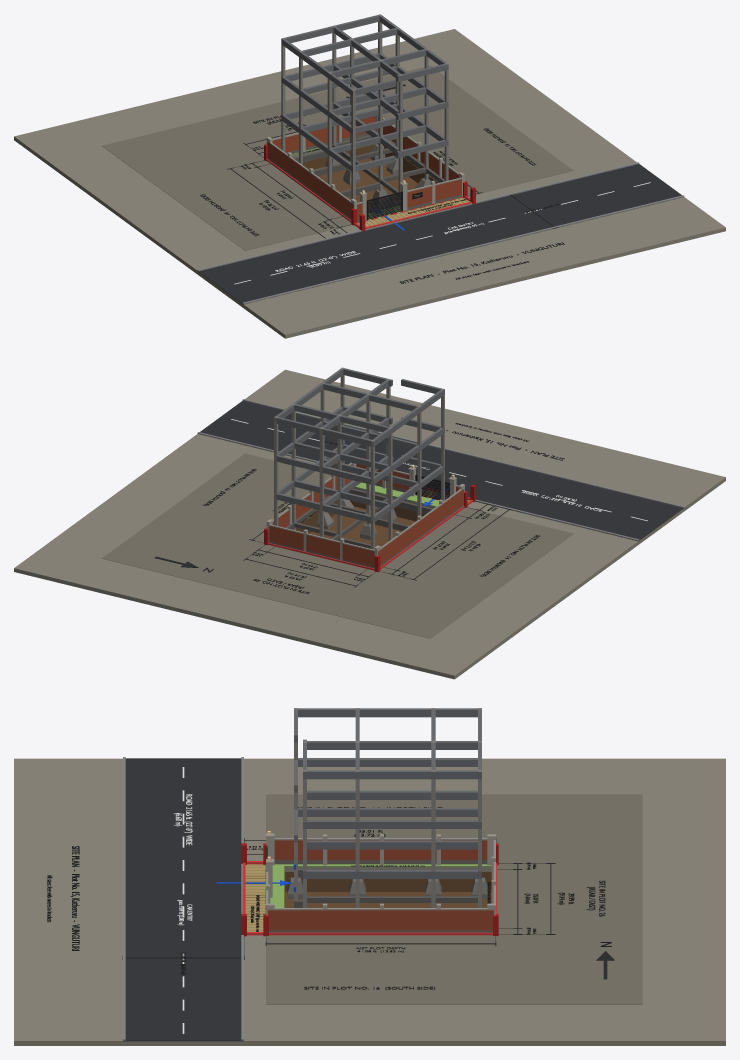
The model's file is 04_site_wall_pillars_beams.glb.
3 views of the same model, one above another, from view 1: azimuth 30°, elevation 25°; view 2: azimuth 150°, elevation 25°; view 3: azimuth 270°, elevation 25° (orthographic). The views are drawn at different scales.
Visible parts, largest first — view 1: Pit_01_Terrain, 01_Neighbour_Plot, 05_Road, PIL_Concrete, BEAM_Roof, BEAM_SecondFloor, BEAM_FirstFloor, 05_Kerb, Pit_Soil, BEAM_Plinth, Wall_North, Wall_Front_with_Gate (+9 smaller); view 2: Pit_01_Terrain, 01_Neighbour_Plot, 05_Road, PIL_Concrete, BEAM_Roof, BEAM_SecondFloor, BEAM_FirstFloor, Wall_Rear, 05_Kerb, Pit_Soil, BEAM_Plinth, Wall_North (+6 smaller); view 3: Pit_01_Terrain, 01_Neighbour_Plot, 05_Road, BEAM_Roof, Wall_South, BEAM_FirstFloor, BEAM_SecondFloor, Pit_Soil, Wall_North, PIL_Concrete, BEAM_Plinth, 05_Kerb (+9 smaller).
Boxes of the visible parts, <box> form: Pit_01_Terrain: <box>14,29,725,338</box>; 01_Neighbour_Plot: <box>102,65,573,250</box>; 05_Road: <box>198,164,681,304</box>; PIL_Concrete: <box>281,14,448,199</box>; BEAM_Roof: <box>281,15,448,96</box>; BEAM_SecondFloor: <box>281,53,448,134</box>; BEAM_FirstFloor: <box>281,91,448,172</box>; 05_Kerb: <box>197,162,684,304</box>; Pit_Soil: <box>303,143,438,206</box>; BEAM_Plinth: <box>293,134,444,212</box>; Wall_North: <box>267,142,353,219</box>; Wall_Front_with_Gate: <box>357,179,461,222</box>; Pit_01_Terrain: <box>14,369,725,679</box>; 01_Neighbour_Plot: <box>102,453,573,638</box>; 05_Road: <box>199,400,683,541</box>; PIL_Concrete: <box>274,367,444,549</box>; BEAM_Roof: <box>276,368,444,446</box>; BEAM_SecondFloor: <box>276,406,444,484</box>; BEAM_FirstFloor: <box>276,444,444,522</box>; Wall_Rear: <box>269,526,374,568</box>; 05_Kerb: <box>197,399,684,540</box>; Pit_Soil: <box>296,500,425,546</box>; BEAM_Plinth: <box>285,487,432,548</box>; Wall_North: <box>378,489,464,566</box>; Pit_01_Terrain: <box>14,758,725,1045</box>; 01_Neighbour_Plot: <box>266,794,642,1004</box>; 05_Road: <box>123,758,243,1041</box>; BEAM_Roof: <box>294,708,481,779</box>; Wall_South: <box>268,910,493,932</box>; BEAM_FirstFloor: <box>294,808,481,878</box>; BEAM_SecondFloor: <box>294,758,481,828</box>; Pit_Soil: <box>284,871,491,907</box>; Wall_North: <box>274,840,487,864</box>; PIL_Concrete: <box>294,708,481,907</box>; BEAM_Plinth: <box>294,868,477,907</box>; 05_Kerb: <box>123,757,243,1040</box>.
Bounding box in the file's own units: 36.4 × 11.37 × 38.8.
